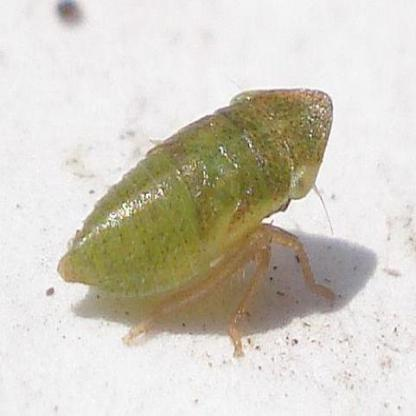green-leafhopper: (60, 86, 334, 350)
